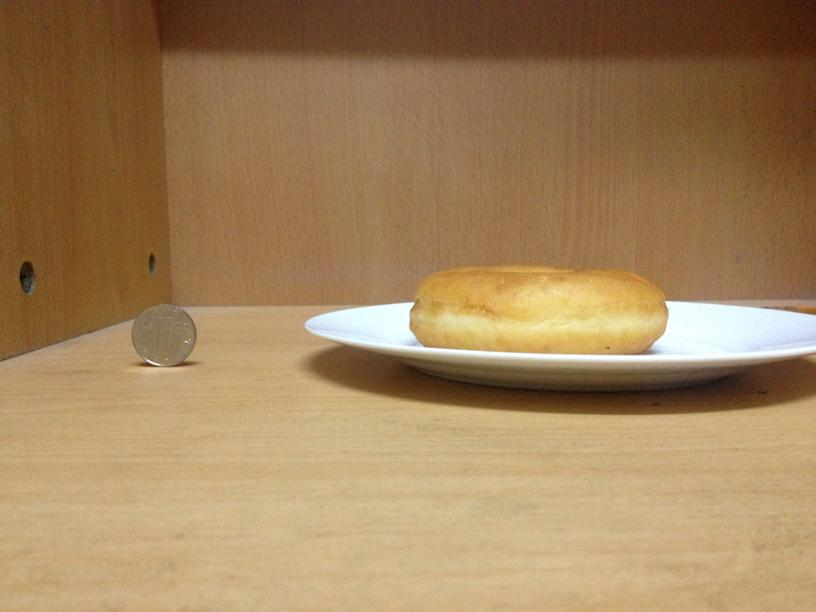coin: (129, 303, 197, 367)
doughnut: (406, 266, 669, 352)
